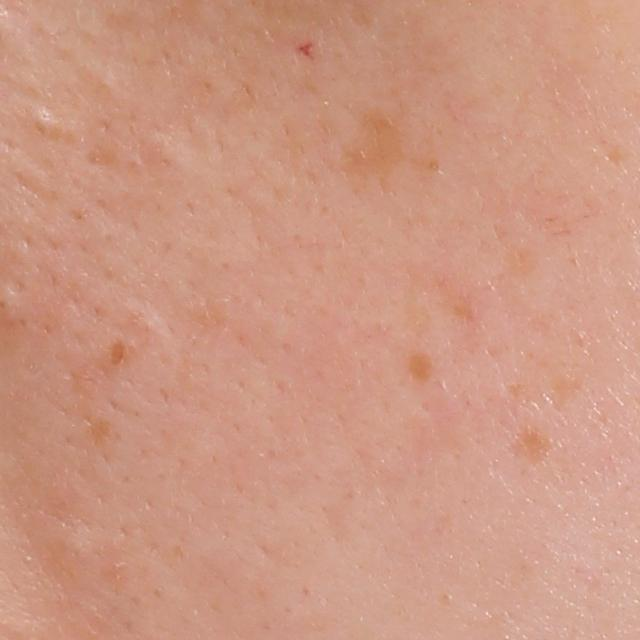melasma: (344, 110, 405, 184)
